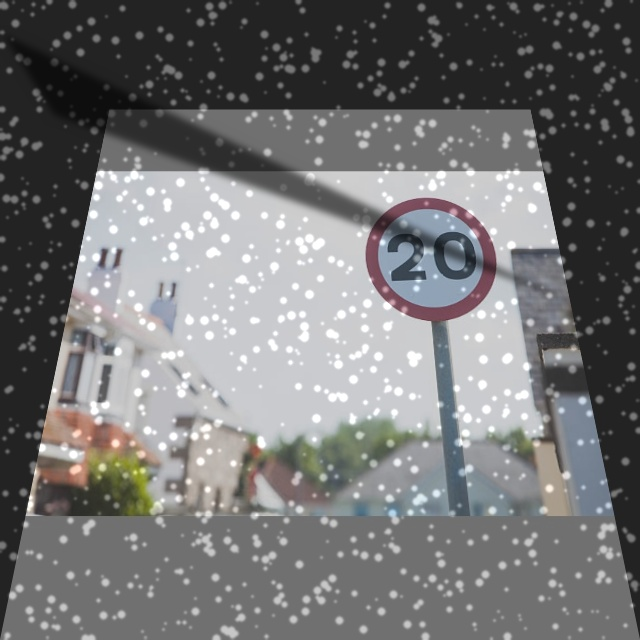Speed_Limit_20: (365, 199, 501, 319)
